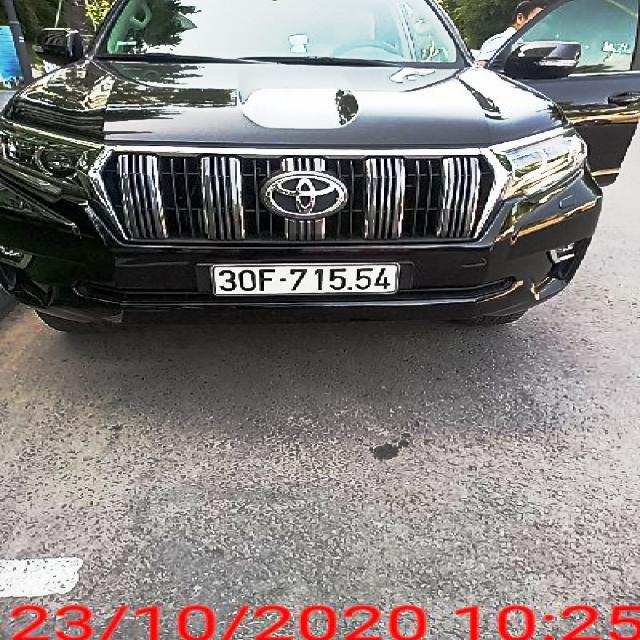license_plate: (214, 265, 398, 296)
